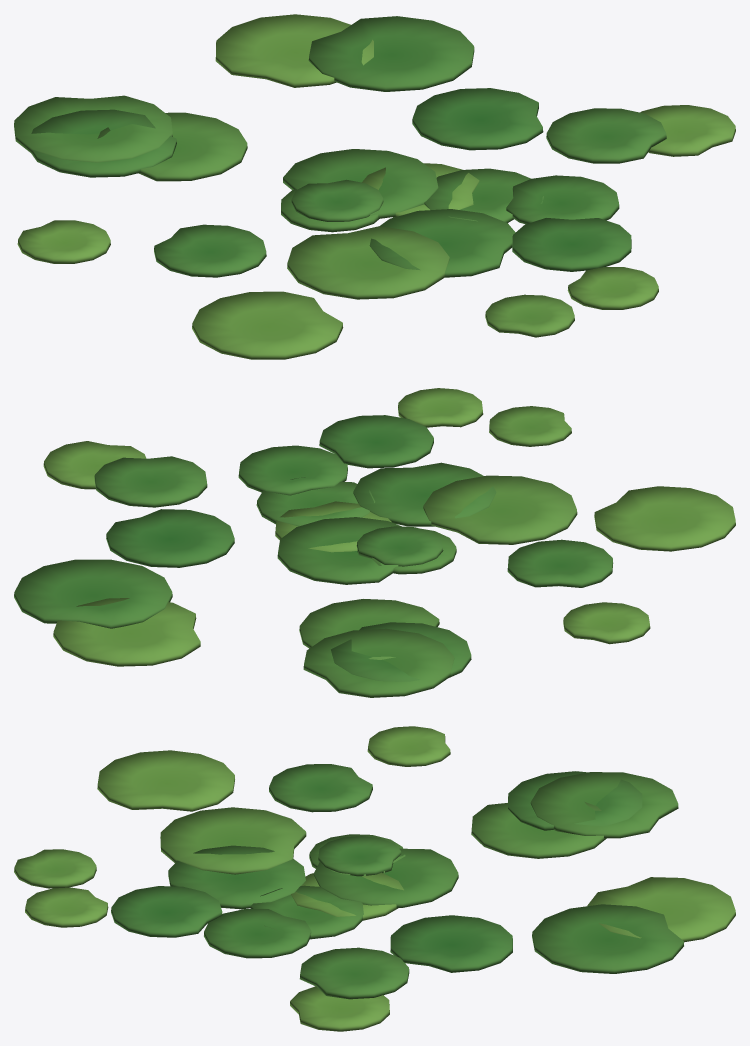
Rendered from WaterGrass.fbx.
The picture shows the model from 3 angles, top to bottom: view 1: azimuth 30°, elevation 25°; view 2: azimuth 150°, elevation 25°; view 3: azimuth 270°, elevation 25°; orthographic projection. The views are drawn at different scales.
Visible parts, largest first — view 1: WaterGrass; view 2: WaterGrass; view 3: WaterGrass.
Boxes of the visible parts, x1,y1,x2,y2 form: WaterGrass: [14, 14, 735, 359]; WaterGrass: [14, 388, 735, 697]; WaterGrass: [14, 726, 735, 1031].
Size of the model in its own units: 3.86 by 0.092 by 3.94.
